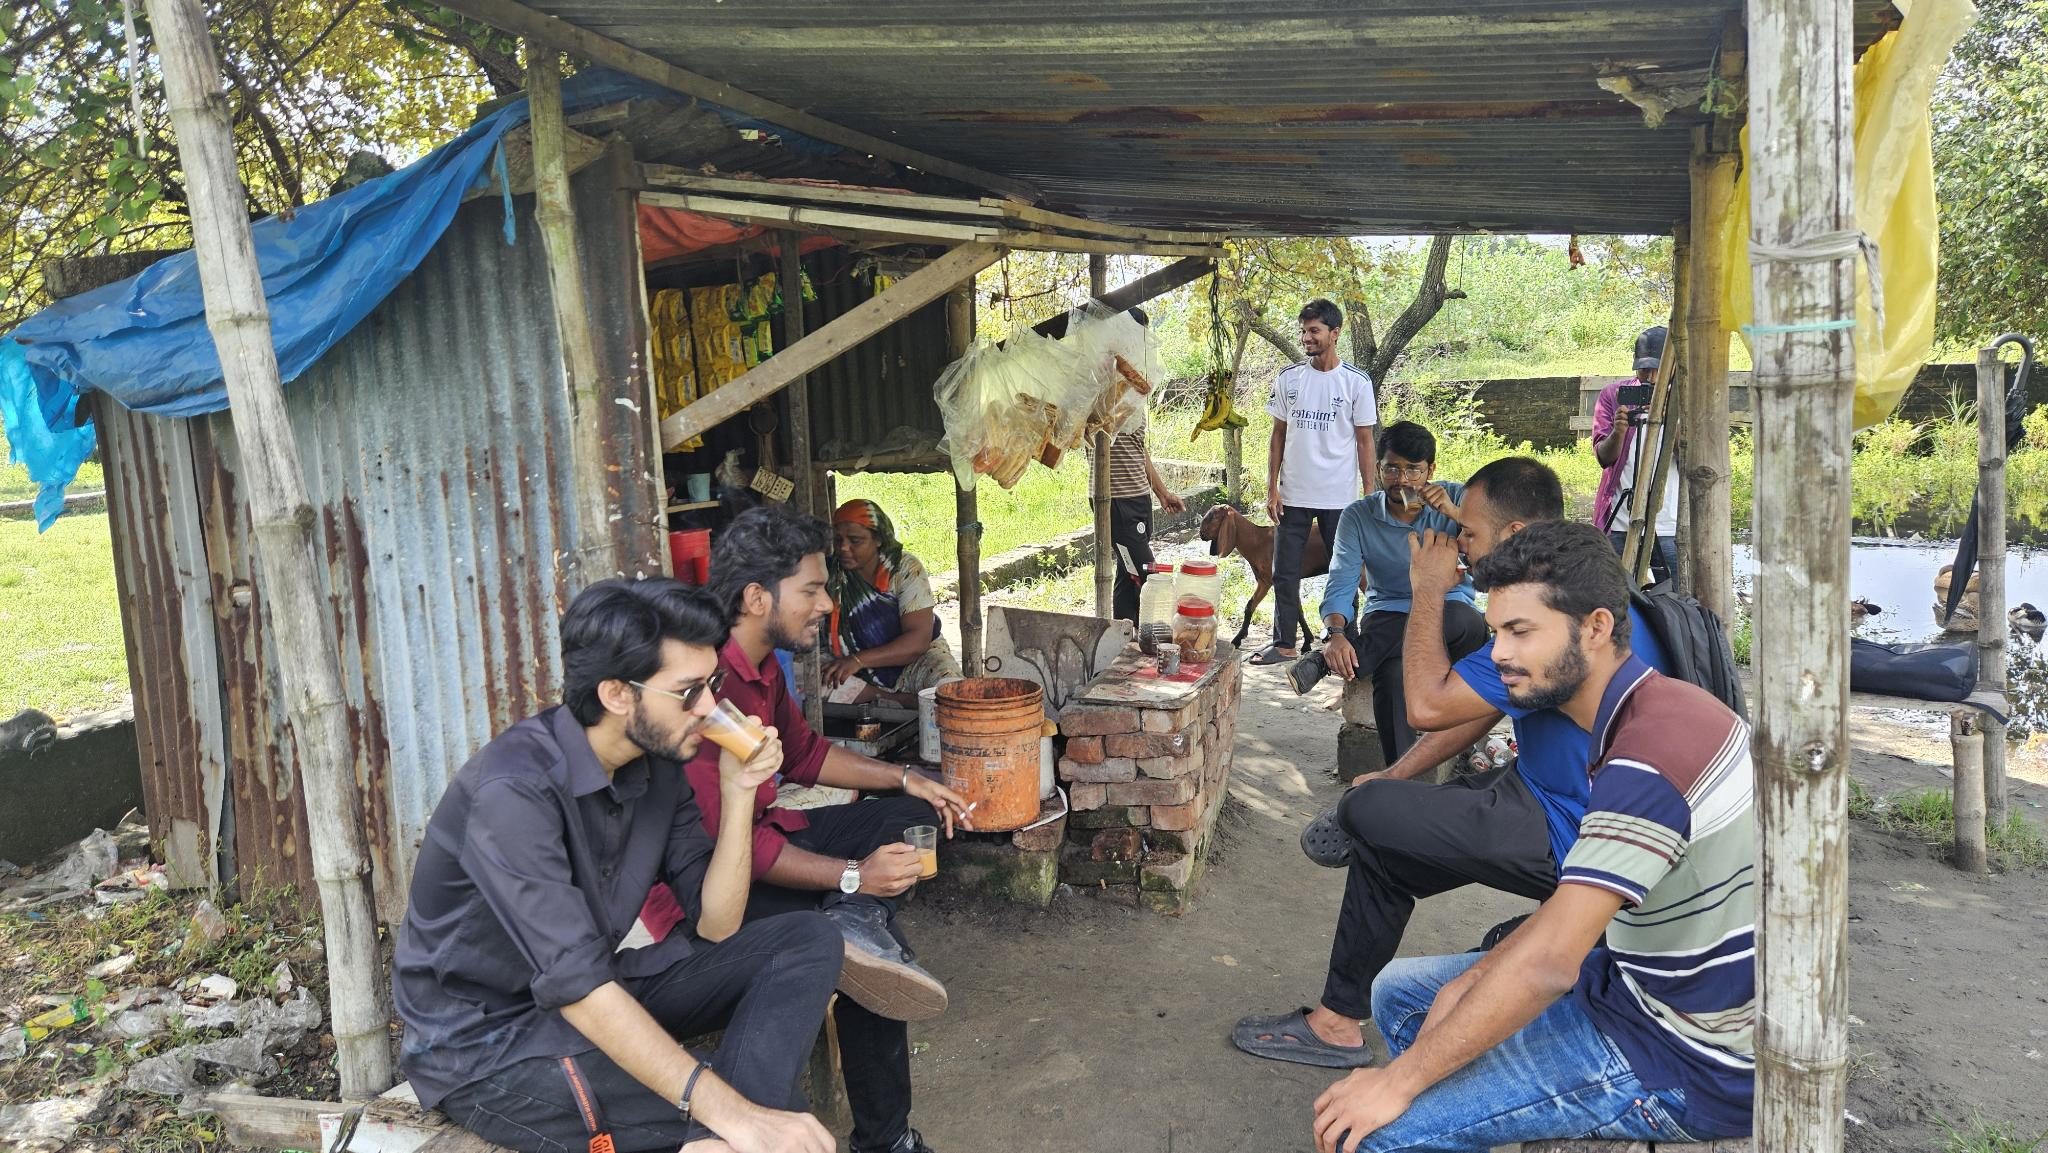cigarette: (956, 799, 980, 824)
nonSmoker: (1312, 517, 1750, 1153), (391, 575, 843, 1153), (1227, 457, 1585, 1066), (1286, 422, 1485, 758), (1248, 298, 1376, 666), (823, 495, 962, 706)
smoker: (693, 503, 978, 1153)
